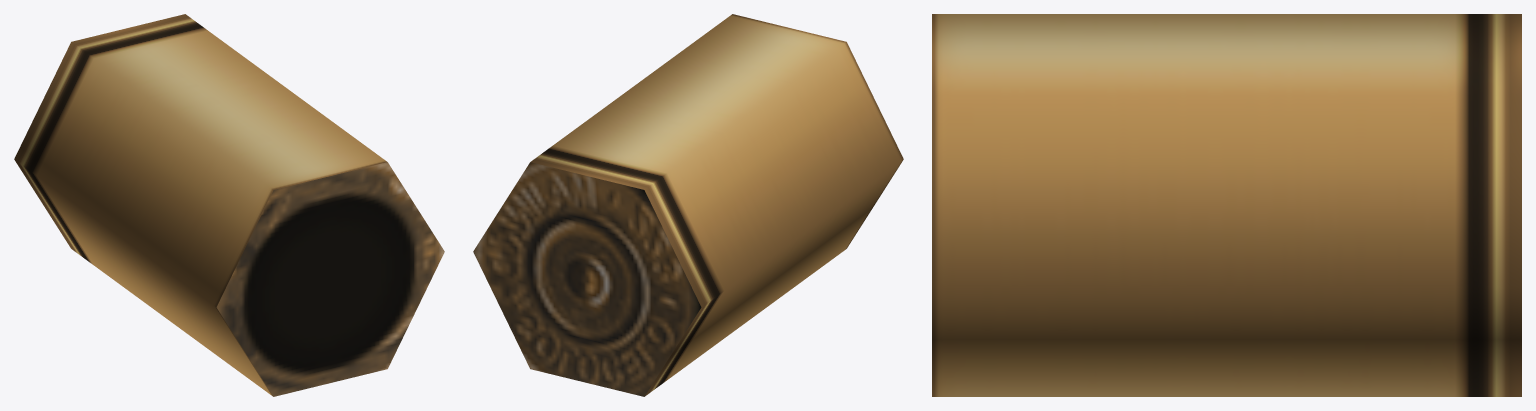
The model's file is 9mm_casing.glb.
The picture shows the model from 3 angles, left to right: view 1: azimuth 30°, elevation 25°; view 2: azimuth 150°, elevation 25°; view 3: azimuth 270°, elevation 25°; orthographic projection. The views are drawn at different scales.
Visible parts, largest first — view 1: Casing; view 2: Casing; view 3: Casing.
Part boxes in pixels (x1,y1,x2,y2): Casing: (14, 14, 444, 396); Casing: (473, 14, 903, 396); Casing: (932, 14, 1521, 396).
Size of the model in its own units: 0.0107 by 0.00926 by 0.0164.
Materials: 1 (1 with a texture image).
